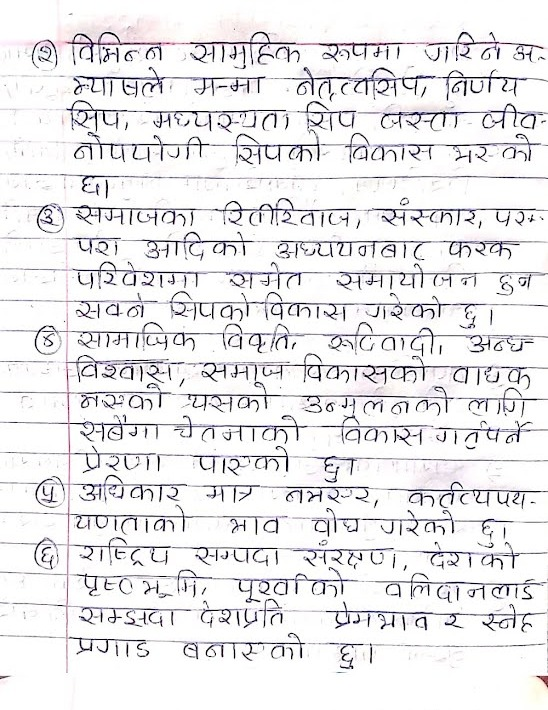text: (376, 571, 543, 604), (71, 131, 211, 166), (300, 386, 453, 418), (270, 233, 433, 263), (294, 66, 432, 101), (214, 197, 358, 230), (232, 567, 356, 605), (187, 30, 303, 70), (142, 104, 294, 134), (331, 262, 480, 292), (71, 258, 205, 291), (171, 414, 309, 446), (298, 352, 430, 385), (76, 320, 199, 354), (401, 479, 532, 510), (322, 321, 437, 356), (76, 569, 204, 600), (181, 632, 309, 662), (66, 30, 170, 66), (321, 599, 431, 633), (69, 352, 180, 385), (69, 201, 197, 229), (292, 539, 400, 572), (144, 232, 254, 264), (75, 505, 190, 535), (78, 473, 188, 504), (342, 130, 436, 166), (229, 131, 325, 166), (72, 601, 187, 630), (192, 445, 293, 478), (373, 197, 479, 228), (68, 67, 166, 100), (331, 416, 432, 448), (418, 540, 520, 571), (75, 443, 166, 477), (73, 536, 172, 567), (258, 291, 351, 323), (164, 289, 254, 322), (434, 419, 533, 449), (198, 597, 288, 630), (75, 380, 167, 412), (186, 381, 275, 414), (424, 29, 505, 65), (440, 67, 528, 100), (214, 320, 293, 355), (76, 413, 163, 444), (364, 291, 448, 323), (447, 133, 535, 163), (222, 261, 307, 291), (71, 293, 156, 322), (317, 37, 408, 64), (67, 633, 153, 661), (447, 361, 536, 388), (379, 509, 459, 539), (278, 483, 376, 507), (438, 236, 524, 263), (196, 359, 292, 383), (187, 545, 286, 568), (465, 385, 531, 419), (375, 108, 464, 133), (66, 97, 124, 133), (479, 101, 543, 133), (188, 74, 267, 99), (300, 99, 359, 132), (481, 604, 536, 634), (220, 513, 288, 537), (461, 334, 538, 355), (312, 506, 364, 537), (494, 267, 542, 296), (201, 483, 259, 505), (492, 205, 538, 232), (73, 234, 122, 258), (316, 453, 346, 485), (475, 515, 500, 551), (333, 640, 362, 671), (457, 300, 482, 330), (442, 611, 468, 634), (511, 42, 540, 62), (77, 173, 102, 196), (39, 483, 61, 506), (39, 204, 59, 228), (35, 45, 55, 67), (38, 545, 57, 568), (38, 331, 58, 351)
